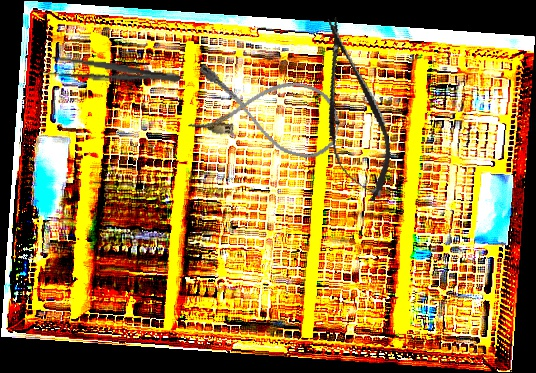Cannula: (185, 59, 347, 164)
Dressing Forceps: (41, 55, 181, 89)
Micro Scissor: (302, 11, 403, 208)
